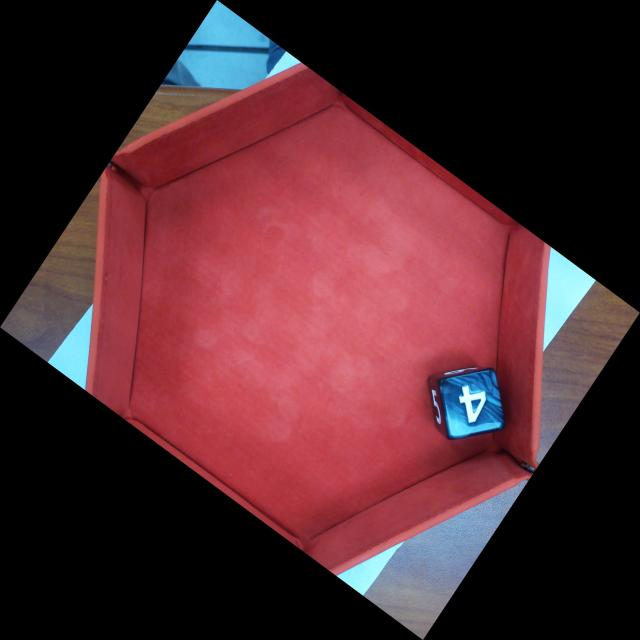dice: (440, 369, 506, 436)
